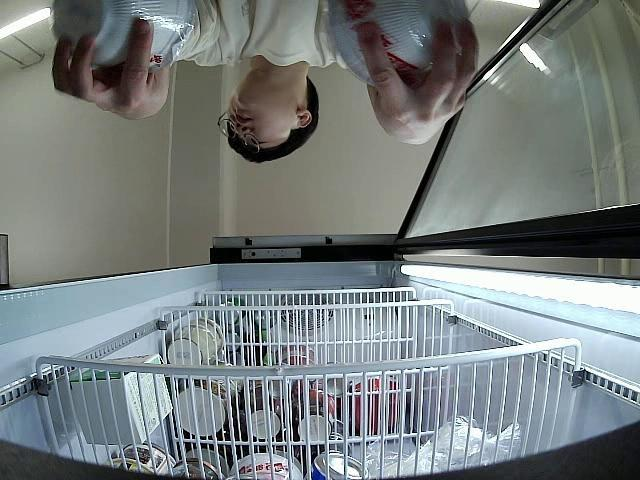09_yukGaeJang: (327, 0, 470, 88), (51, 0, 194, 76)
